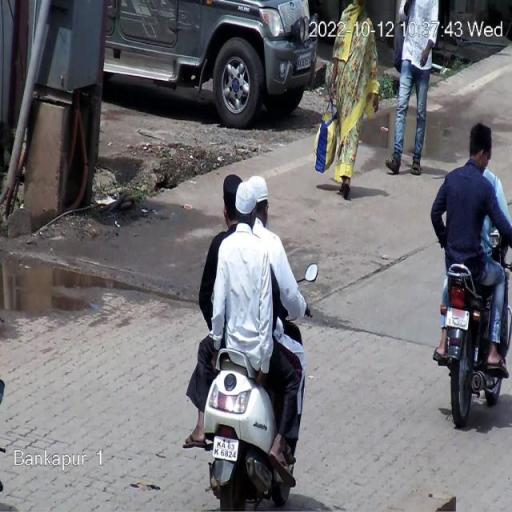tripple riding: (190, 168, 318, 362)
